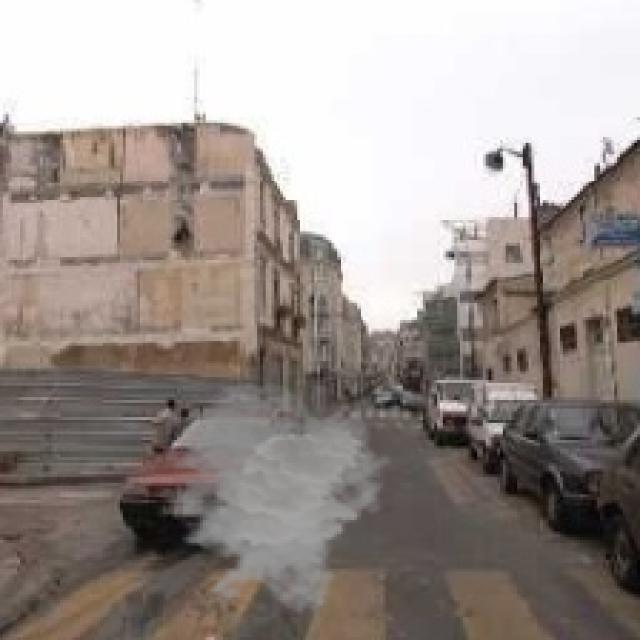smoke: (146, 380, 394, 614)
